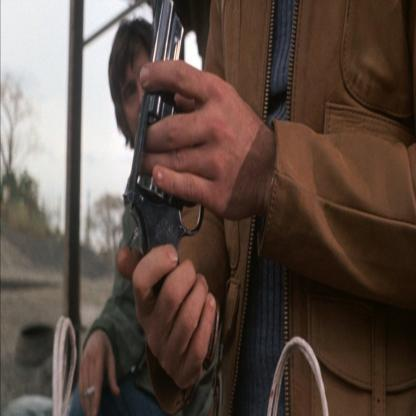gun: (138, 4, 211, 288)
